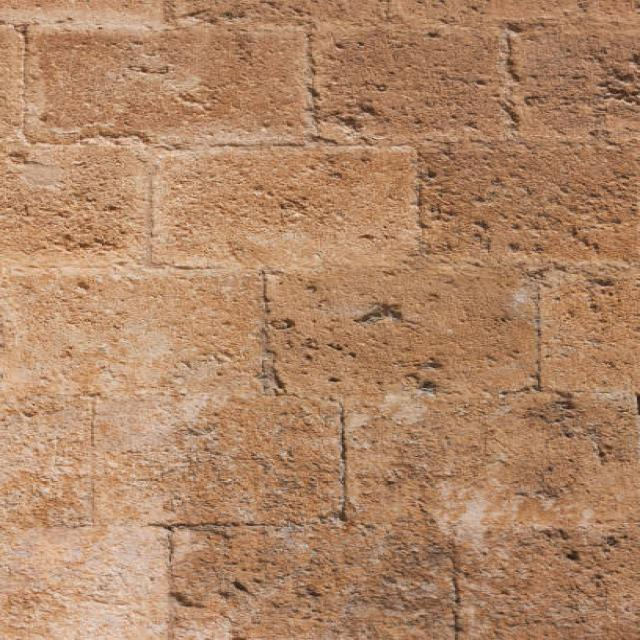Sedimentary: (1, 1, 640, 638)
